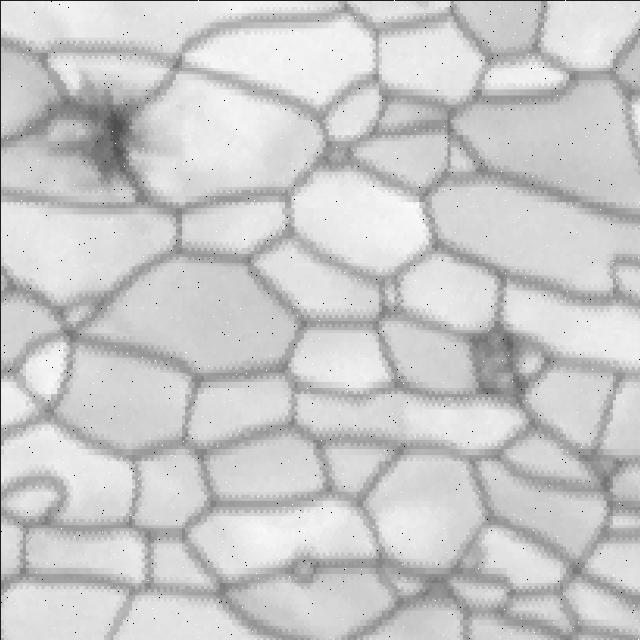good_void: (33, 58, 168, 213), (457, 311, 540, 400)
